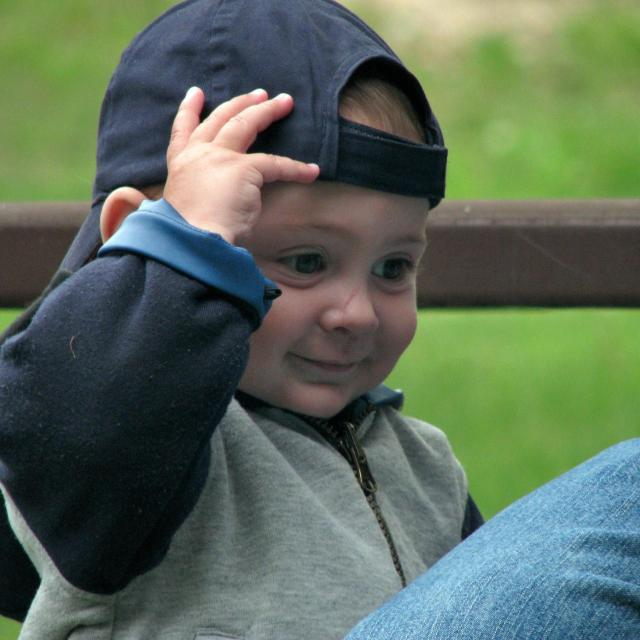no-glass: (275, 244, 414, 281)
